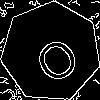O: (26, 27, 83, 87)
